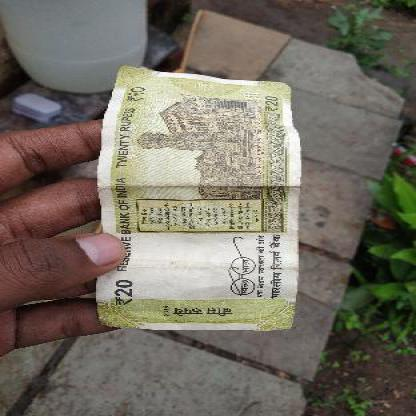New20Back: (100, 70, 300, 330)
